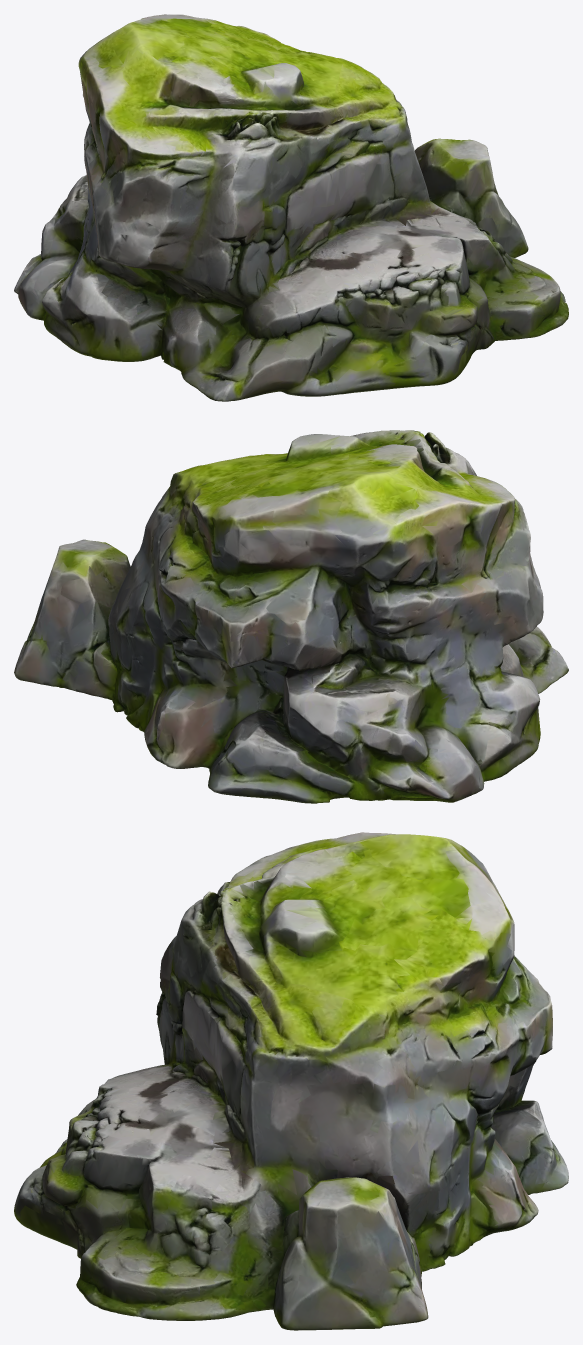
Rendered from rock.glb.
3 renders of one model, top to bottom at view 1: azimuth 30°, elevation 25°; view 2: azimuth 150°, elevation 25°; view 3: azimuth 270°, elevation 25°, orthographic. The views are drawn at different scales.
Parts seen in each view (by area): view 1: rock; view 2: rock; view 3: rock.
Boxes of the visible parts, x1=… form: rock: x1=14, y1=14, x2=568, y2=401; rock: x1=14, y1=430, x2=568, y2=803; rock: x1=14, y1=832, x2=568, y2=1330.
Size of the model in its own units: 1.9 by 1.06 by 1.74.
Materials: 1 (1 with a texture image).
